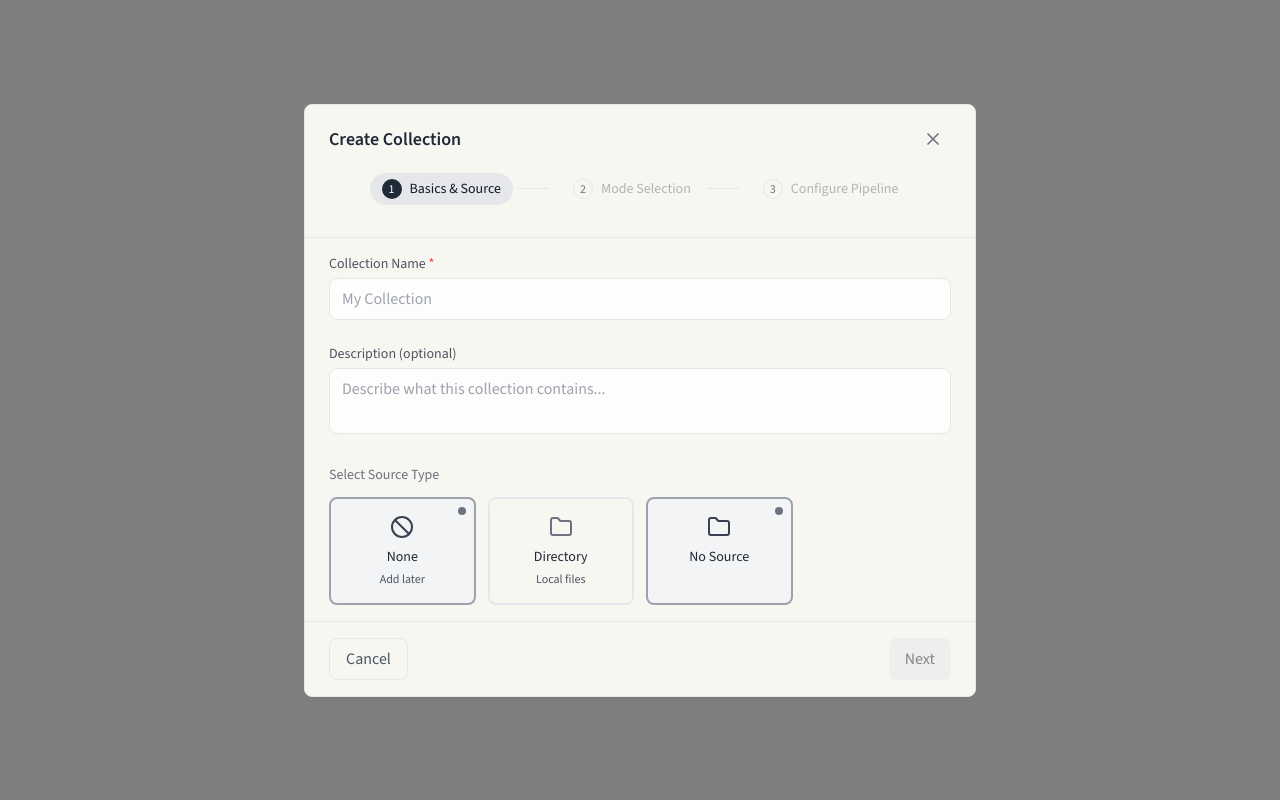
Test: CollectionWizard Assisted Flow › shows review step after clicking next from analysis
Fill basics with source
Step 1. Type "Test" into the field labelled "Collection Name *" → (640, 298), box [329,278,951,320]
Select directory source
Step 2. Click the text "Directory" → click(561, 556), box [534,546,588,566]
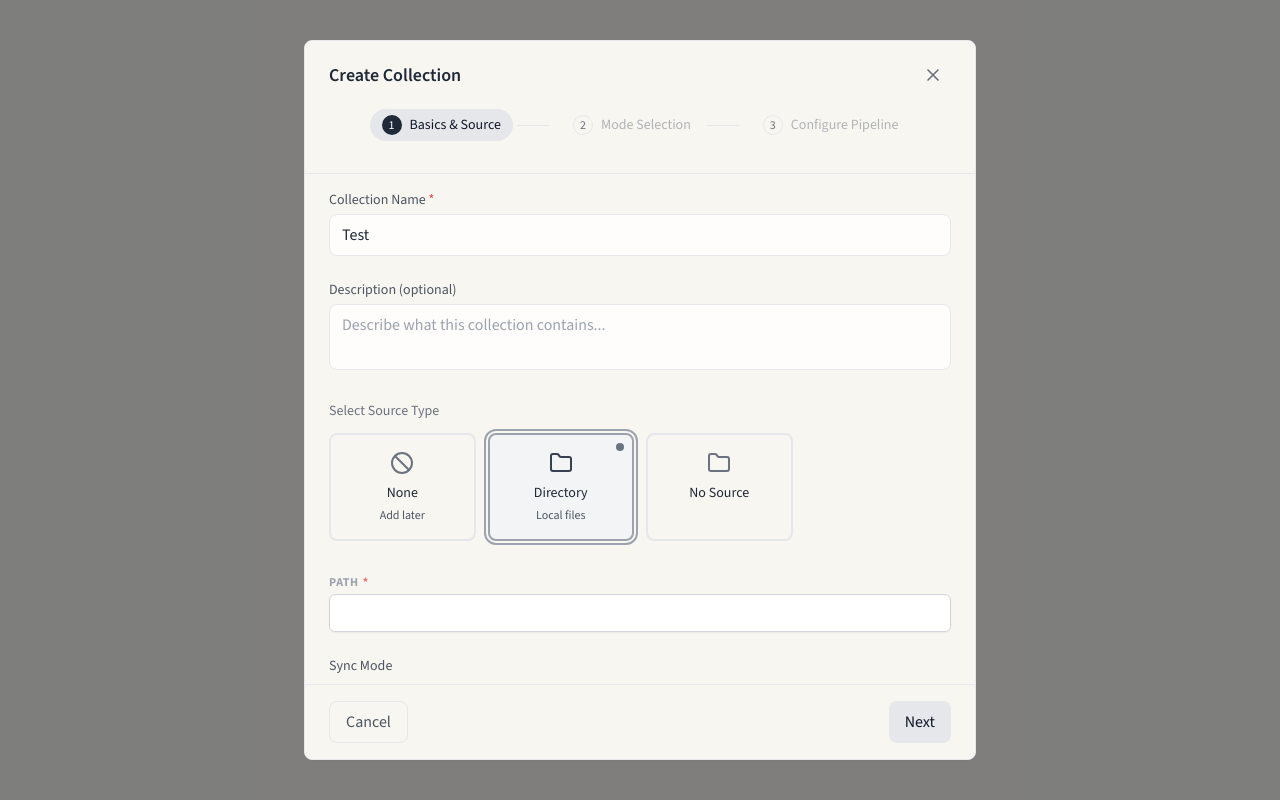
Fill in path
Step 3. Type "/home/user/docs" into the field labelled "Path*" → (640, 613), box [329,594,951,632]
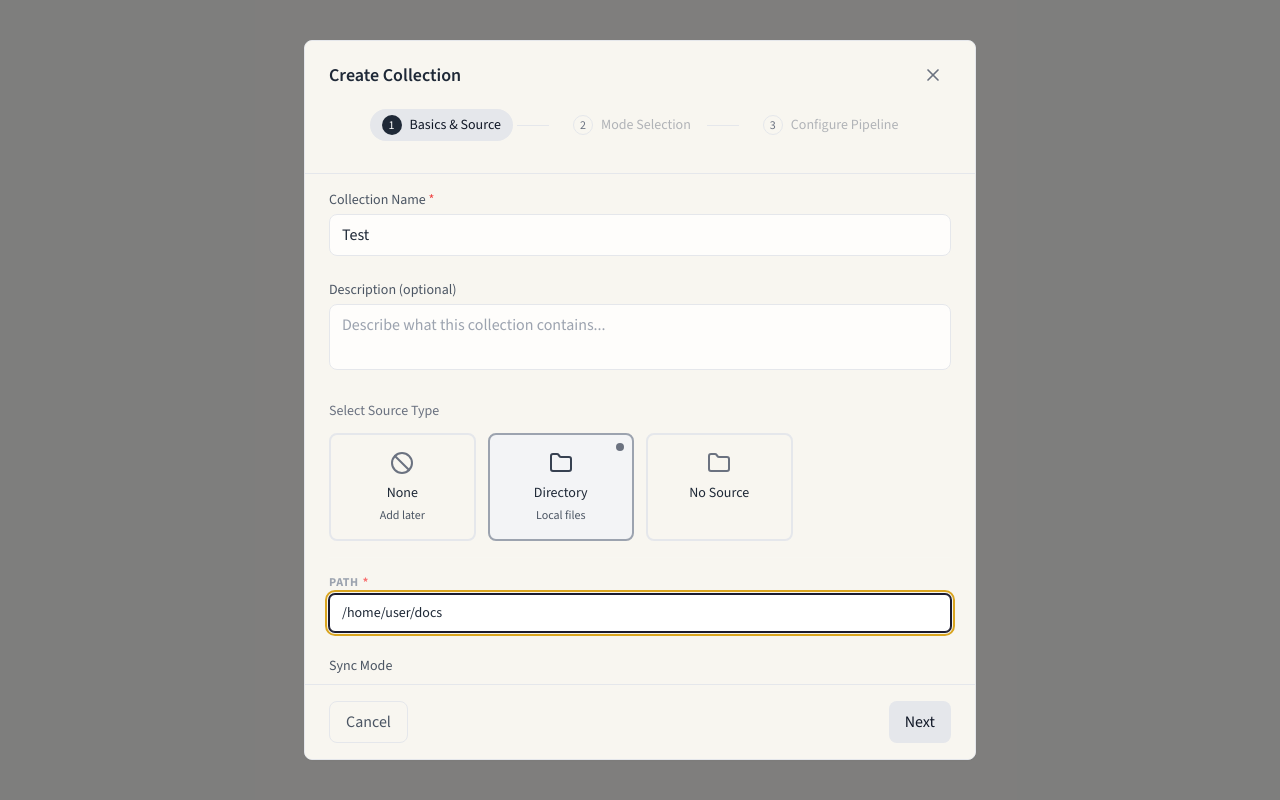
Step 4. Click the button "Next" → click(920, 722), box [889,701,951,743]
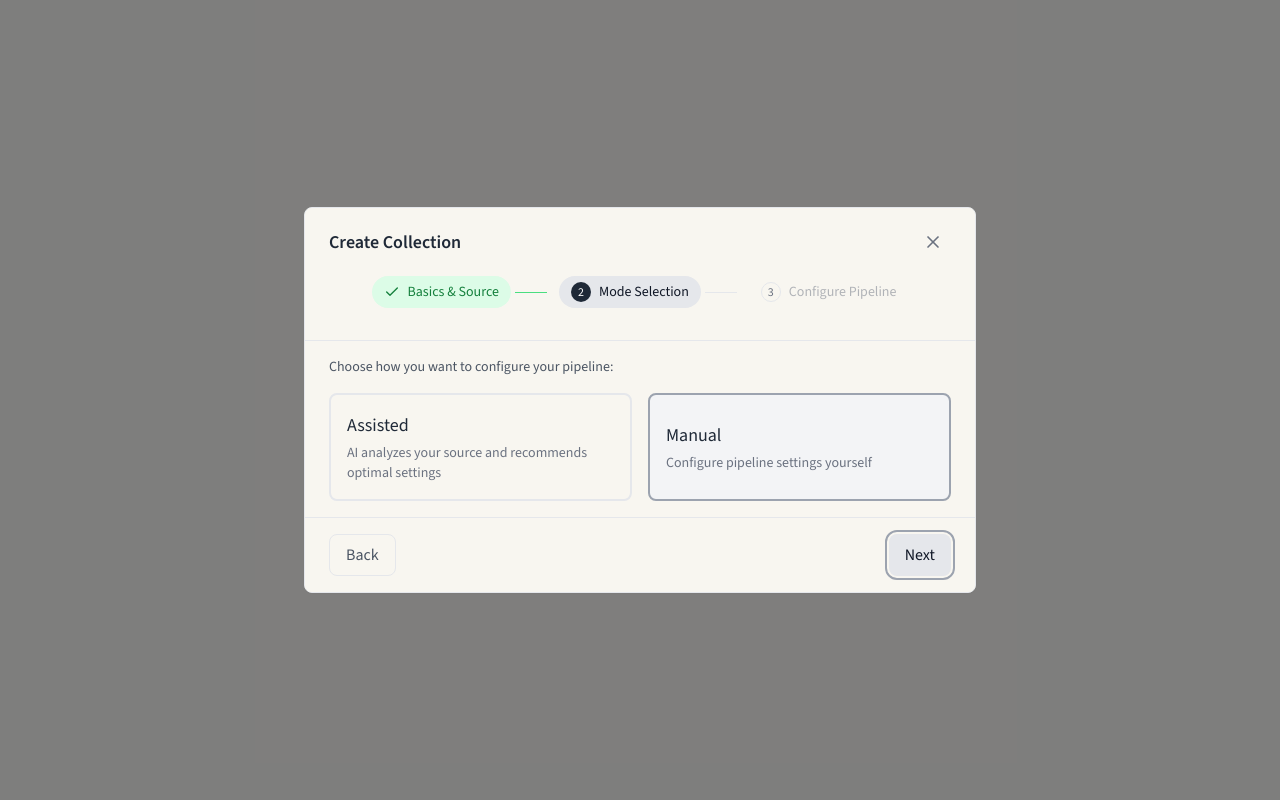
Expected: the text "Assisted" is shown, [347,413,409,437]
Select Assisted mode
Step 5. Click the button "Assisted" → click(480, 447), box [329,393,632,501]
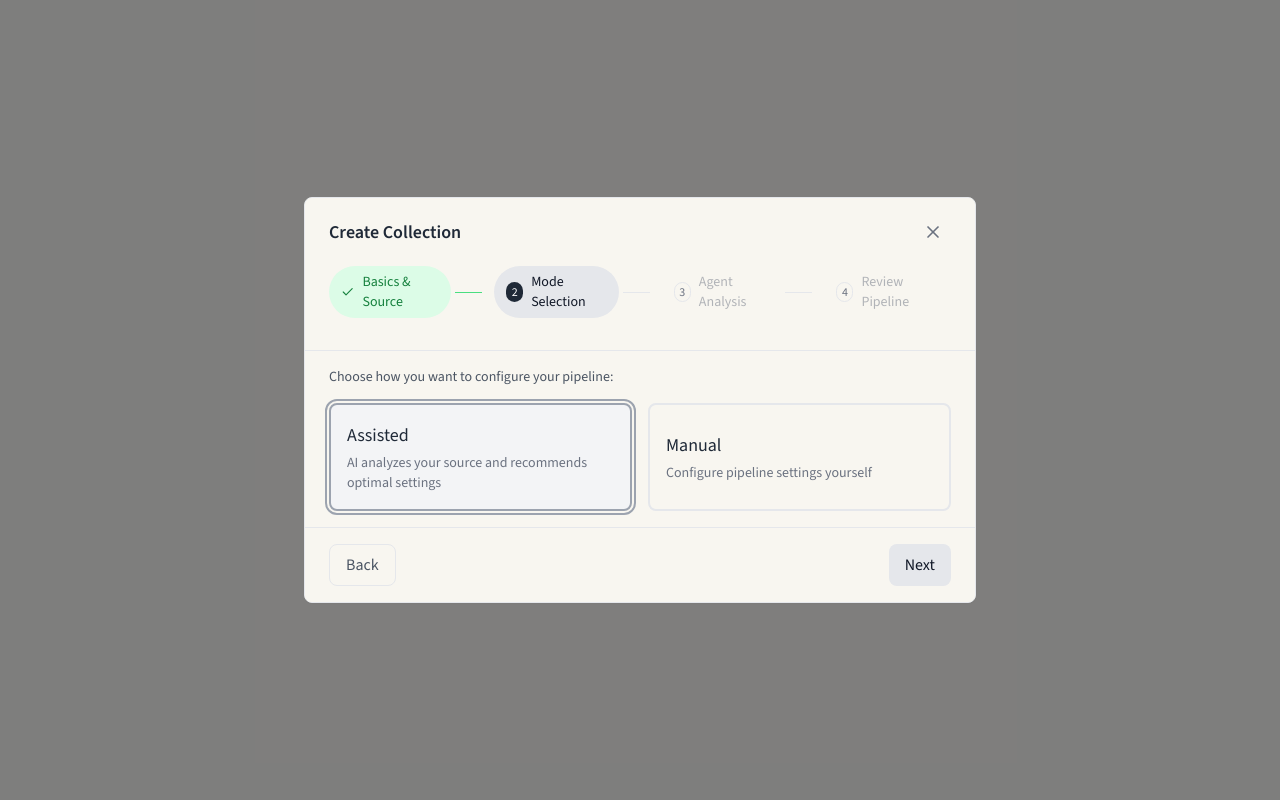
Step 6. Click the button "Next" → click(920, 565), box [889,544,951,586]
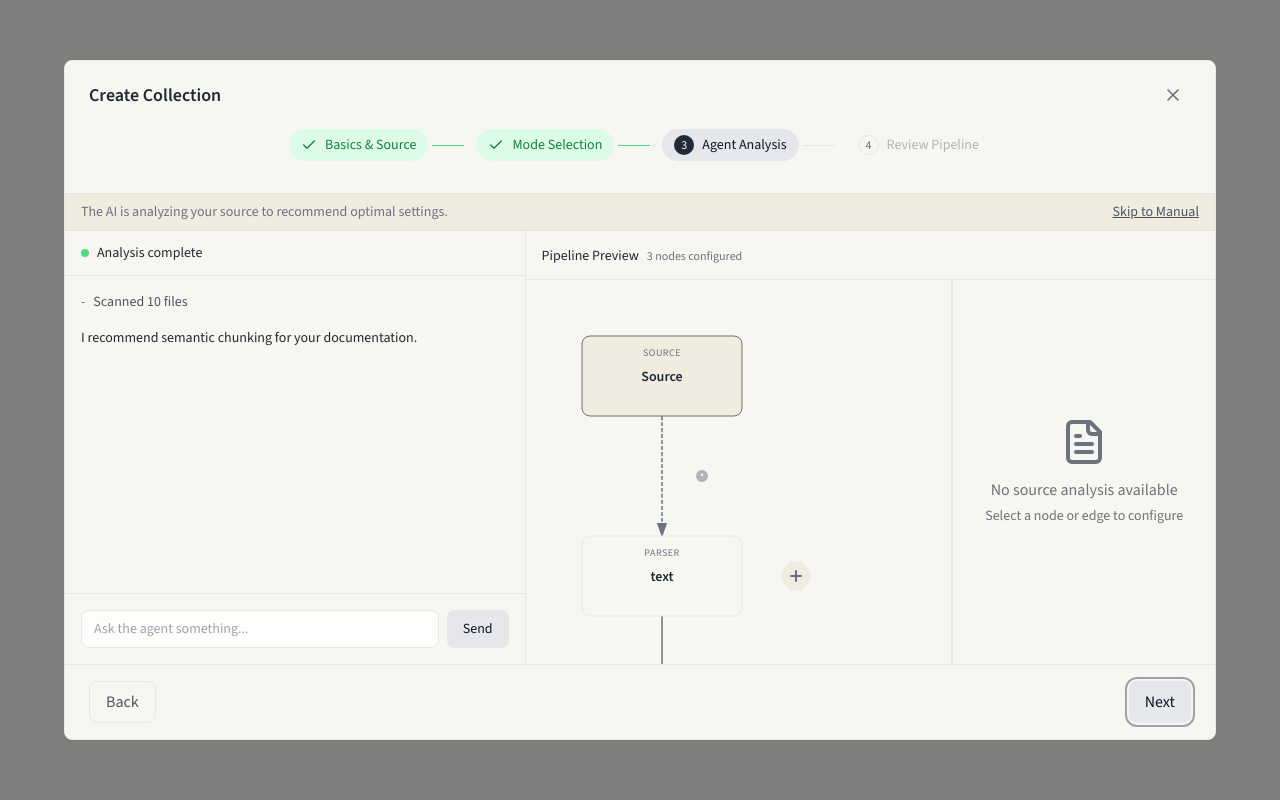
Expected: the element with test id "agent-column" is shown, [65,231,526,664]
Click "Next" to go to review step
Step 7. Click the button "Next" → click(1160, 702), box [1129,681,1191,723]
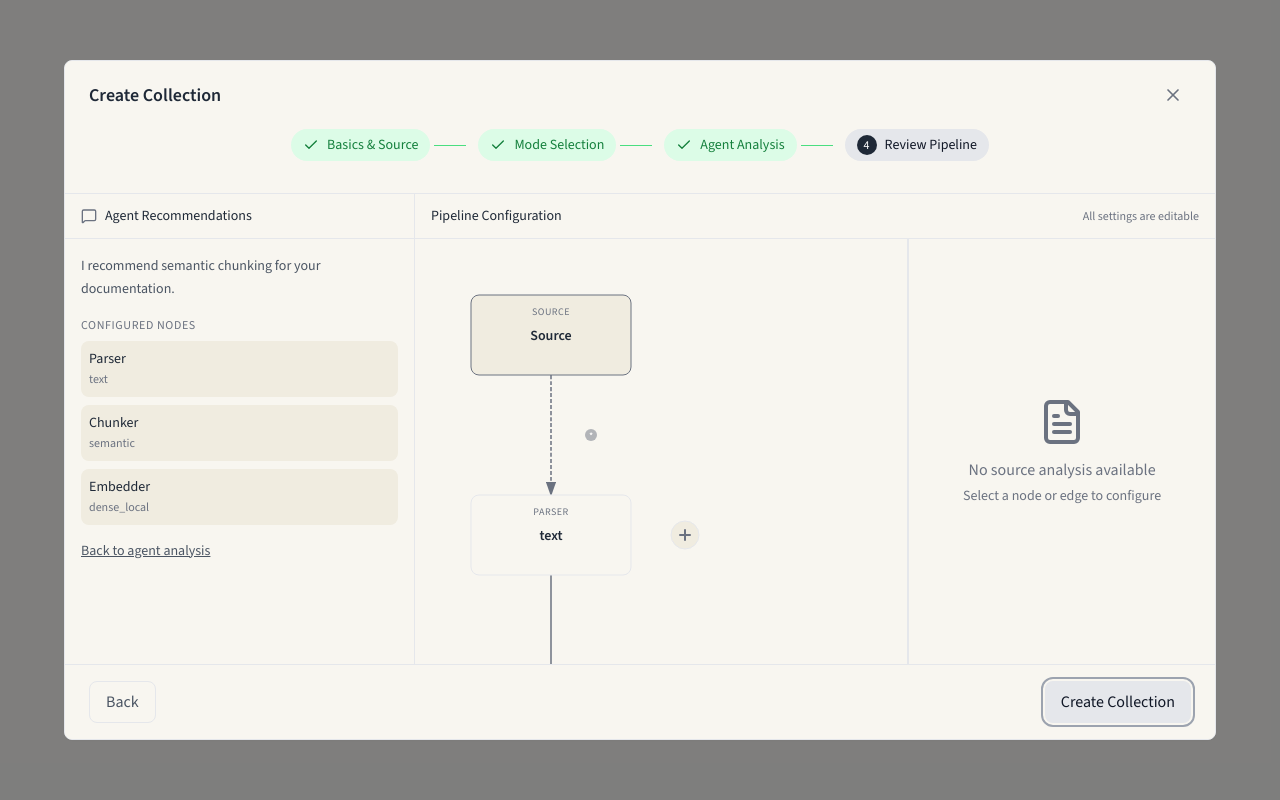
Expected: the element with test id "summary-column" is shown, [65,194,415,664]
